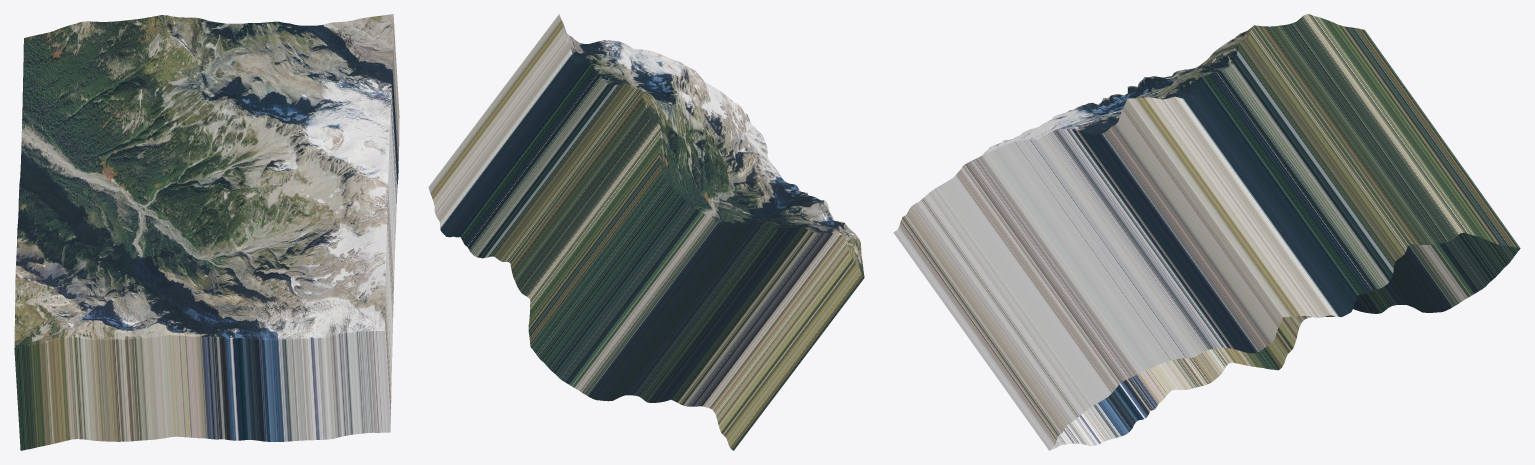
The picture shows the model from 3 angles, left to right: view 1: azimuth 30°, elevation 25°; view 2: azimuth 150°, elevation 25°; view 3: azimuth 270°, elevation 25°; orthographic projection. The views are drawn at different scales.
Size of the model in its own units: 5925 by 5106 by 7011.
1 material, 1 textured.
